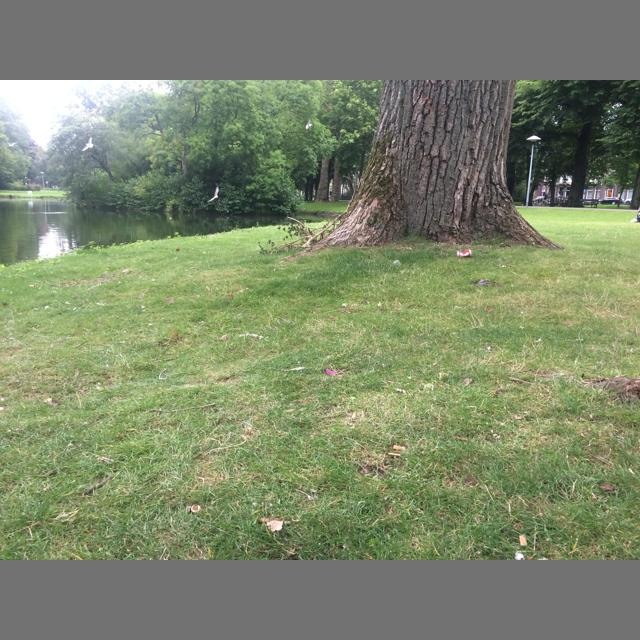litter: (457, 249, 471, 257), (393, 445, 405, 450), (388, 453, 401, 456)
